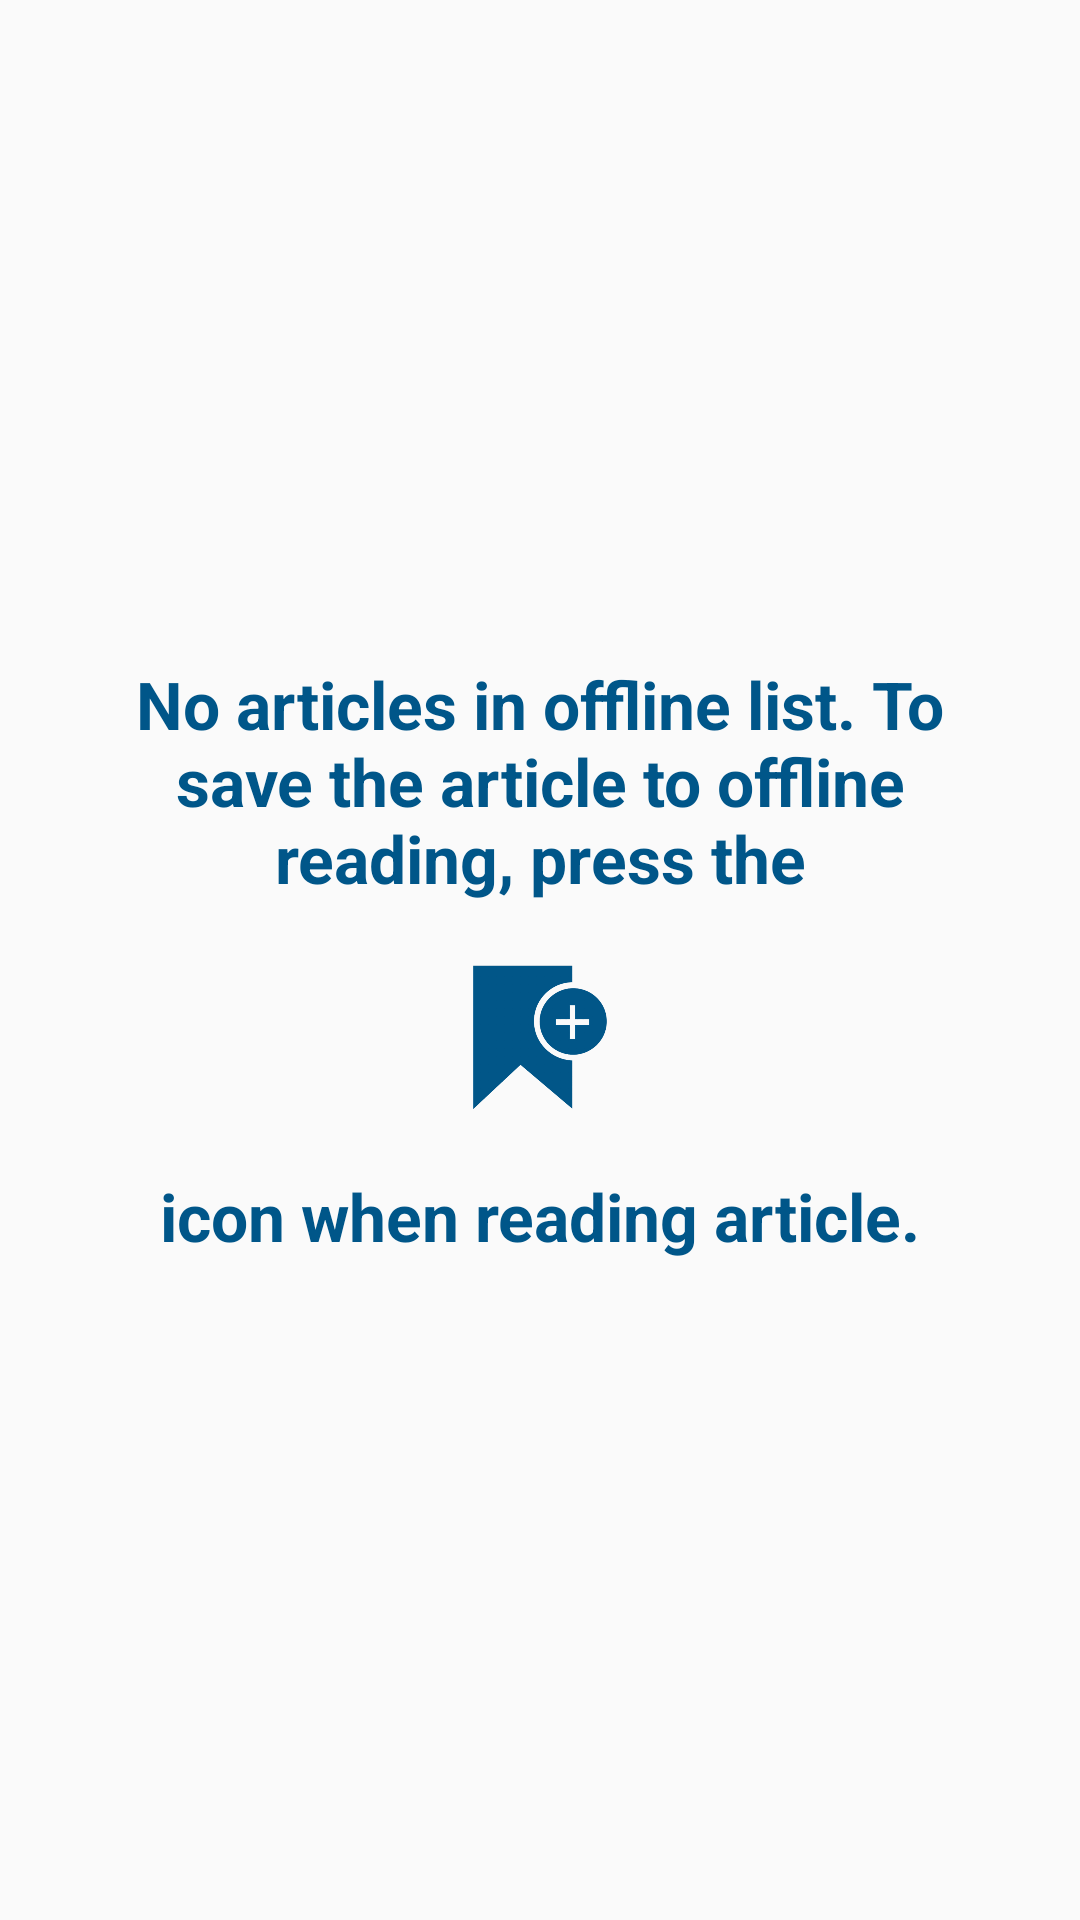

Named icons in this screenshot (1080px x 1920px) and their bounding boxes, {"x1": x1, "y1": y1, "x2": x2, "y2": y2}:
bookmark add: {"x1": 473, "y1": 965, "x2": 607, "y2": 1109}
